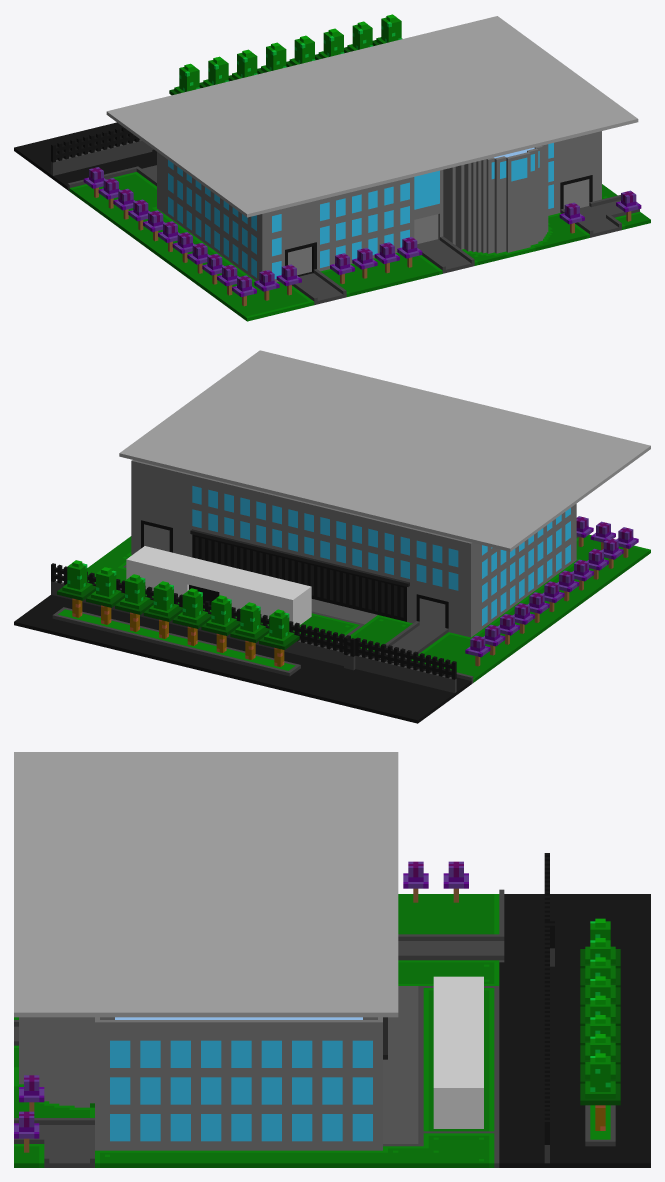
The model's file is Legorreta-7.obj.
3 renders of one model, top to bottom at view 1: azimuth 30°, elevation 25°; view 2: azimuth 150°, elevation 25°; view 3: azimuth 270°, elevation 25°, orthographic. The views are drawn at different scales.
Size of the model in its own units: 12.6 by 3.2 by 12.6.
Materials: 1 (1 with a texture image).
